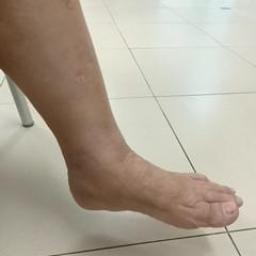Medial View -Left Foot-: (39, 117, 255, 241)
